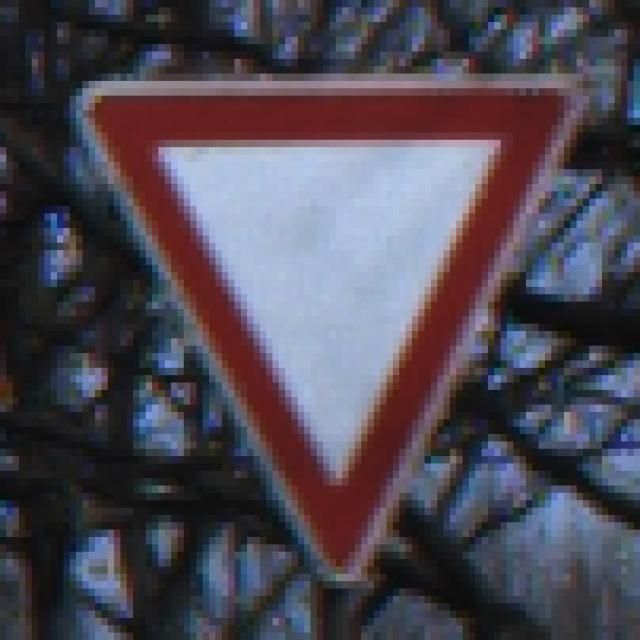give way: (61, 61, 606, 591)
